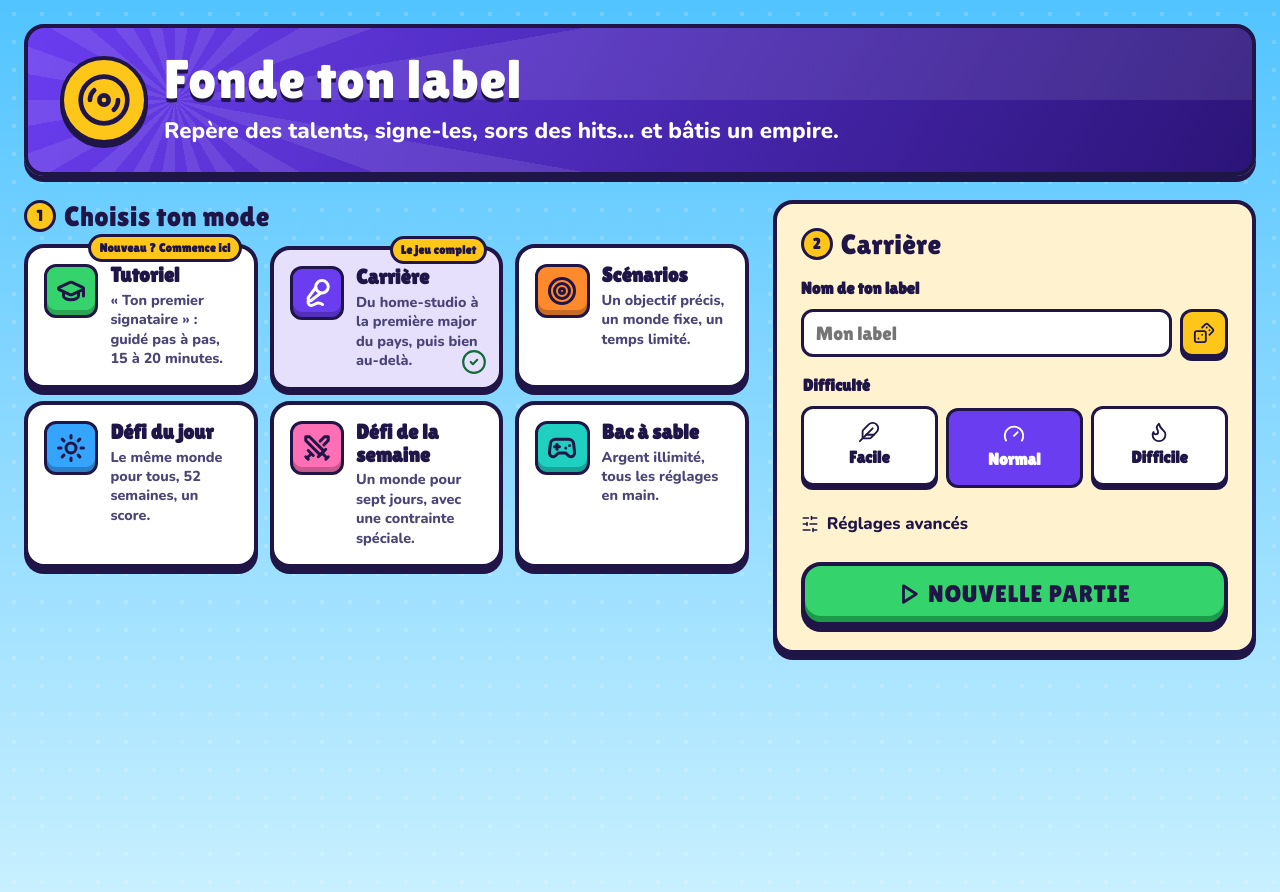
Test: écran Institution › reste fermé avant le palier
Click the button "Nouvelle partie": (1014, 594) [801,562,1228,626]
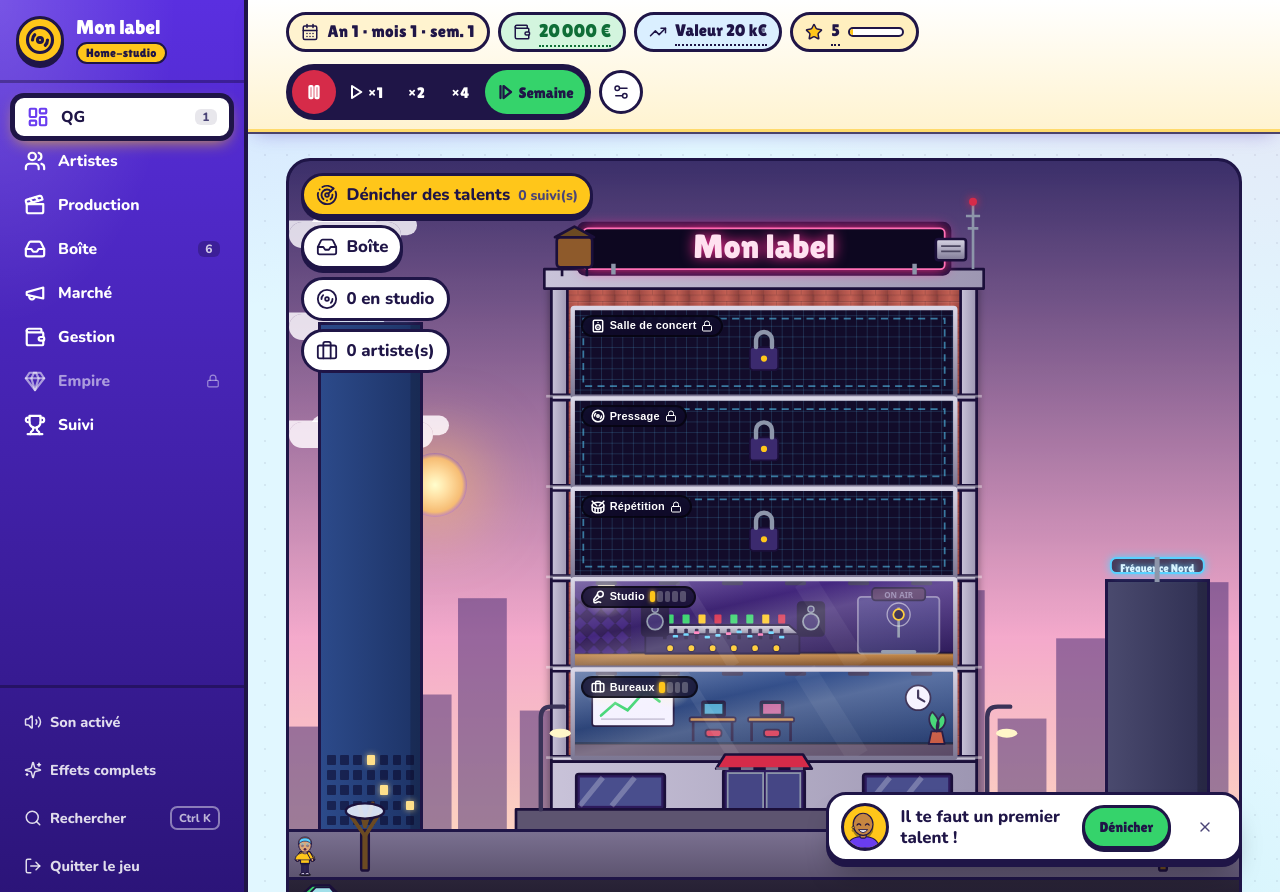
Expected: the navigation bar named "Écrans du jeu" is shown, [12,95,232,447]
Click the button "Empire": (122, 381) [12,359,232,403]
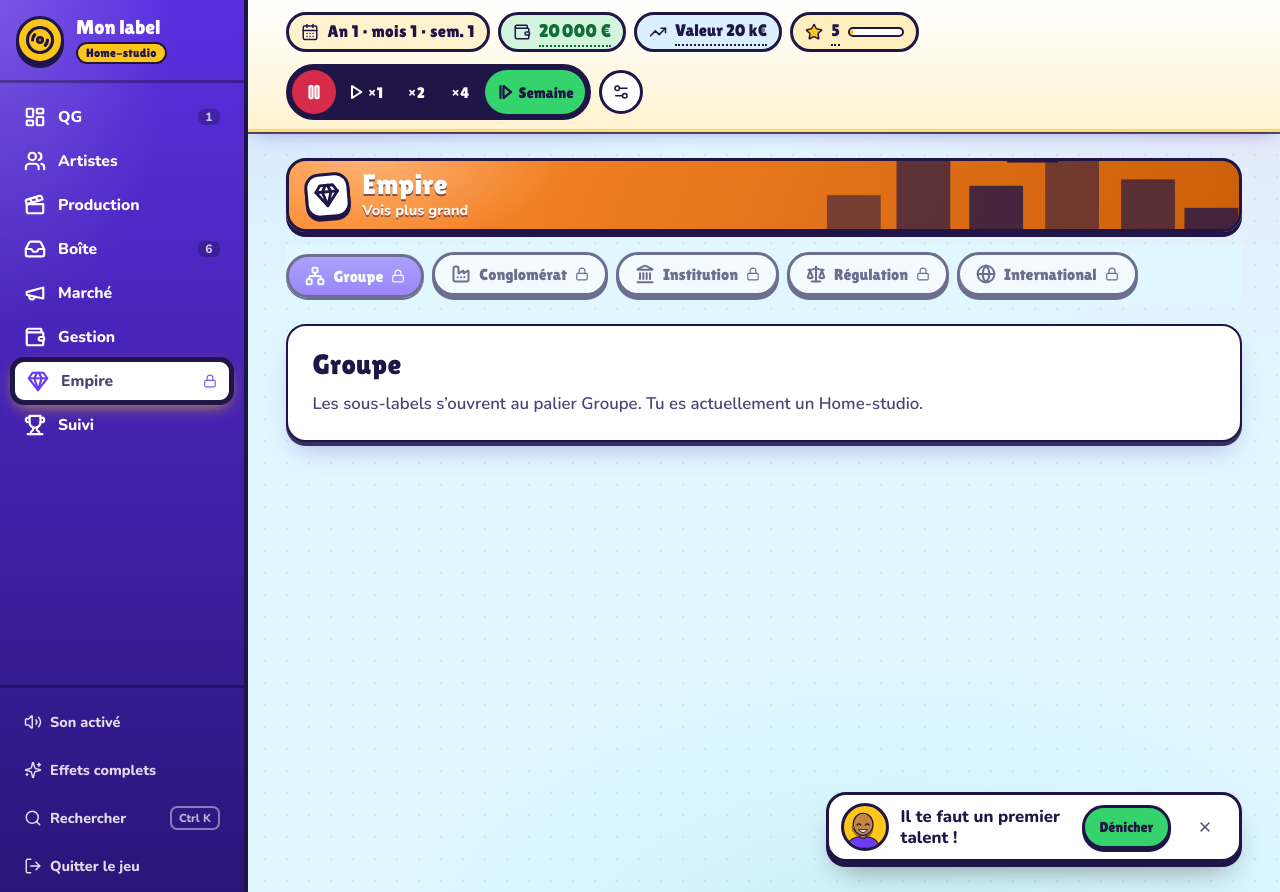
Click the tab "Institution": (697, 274) [616,252,779,296]
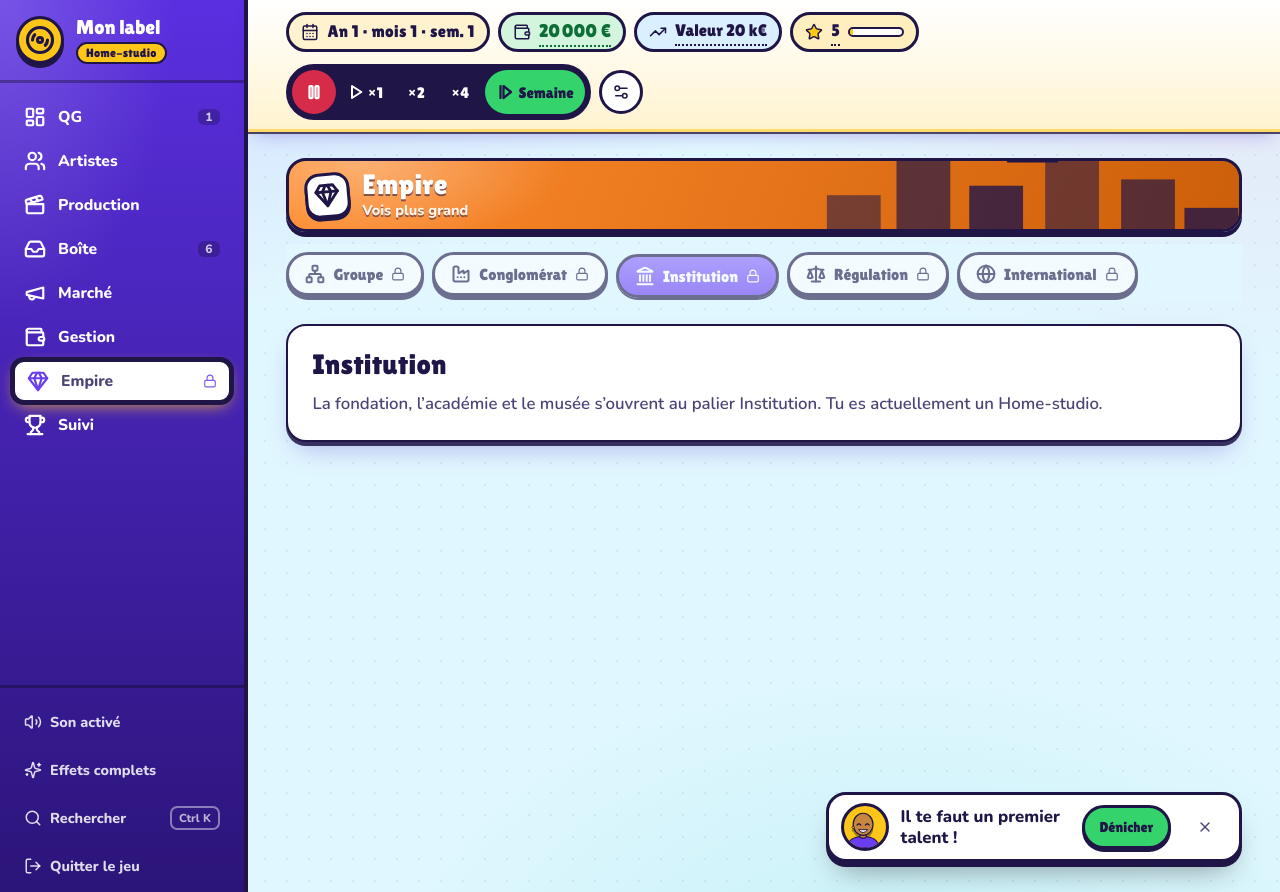
Expected: the text "s’ouvrent au palier Institution" is shown, [312,392,998,415]
